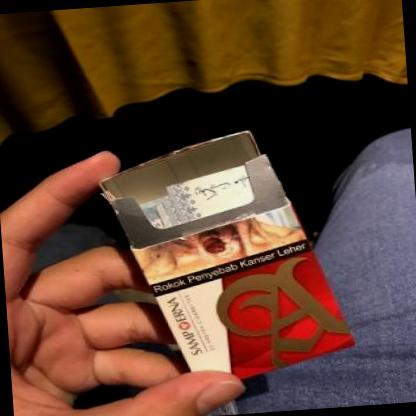objects: (97, 125, 357, 389)
